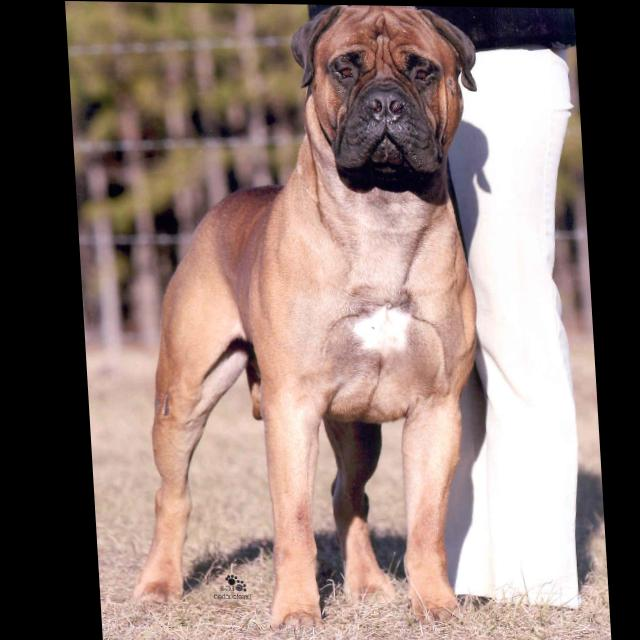bullmastiff: (98, 2, 505, 635)
person: (309, 5, 604, 612)
